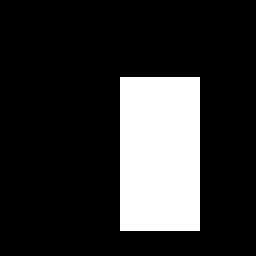person: (120, 77, 199, 230)
